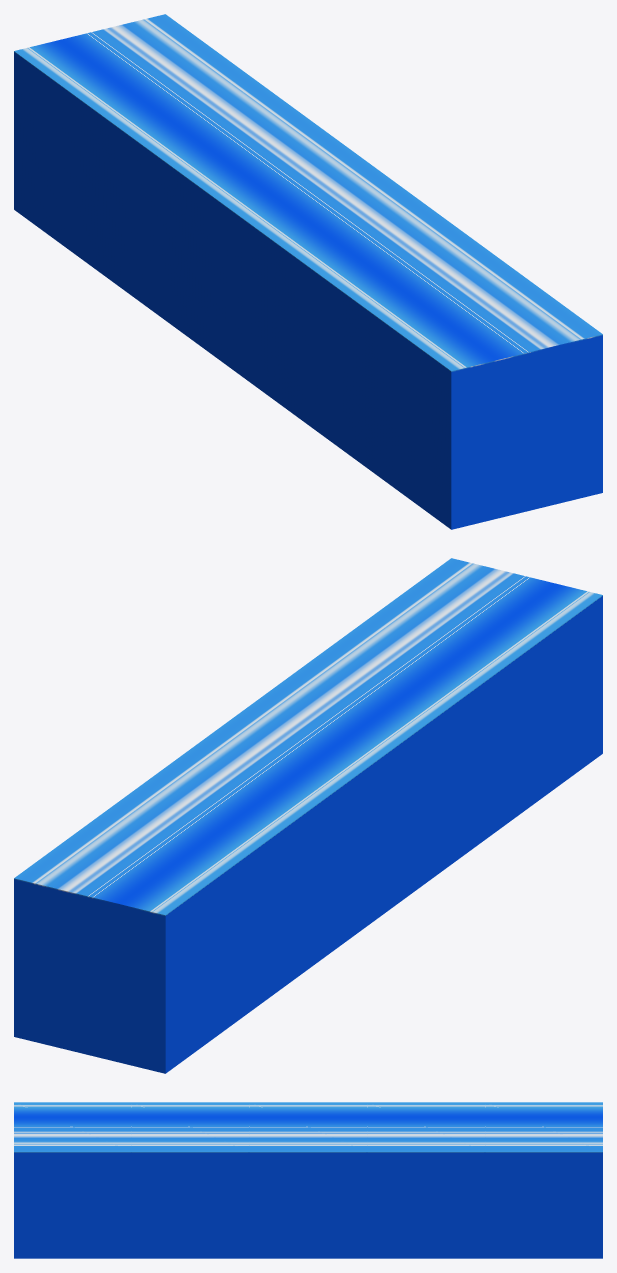
File: MG-ChJ-CS-09ShuiXia-5.FBX
3 views of the same model, one above another, from view 1: azimuth 30°, elevation 25°; view 2: azimuth 150°, elevation 25°; view 3: azimuth 270°, elevation 25° (orthographic). The views are drawn at different scales.
Visible parts, largest first — view 1: MG-ChJ-CS-09ShuiXia-5; view 2: MG-ChJ-CS-09ShuiXia-5; view 3: MG-ChJ-CS-09ShuiXia-5.
Boxes of the visible parts, bbox=[...] form: MG-ChJ-CS-09ShuiXia-5: bbox=[14, 14, 602, 529]; MG-ChJ-CS-09ShuiXia-5: bbox=[14, 558, 602, 1073]; MG-ChJ-CS-09ShuiXia-5: bbox=[14, 1102, 602, 1258].
Size of the model in its own units: 39.37 by 39.37 by 197.
